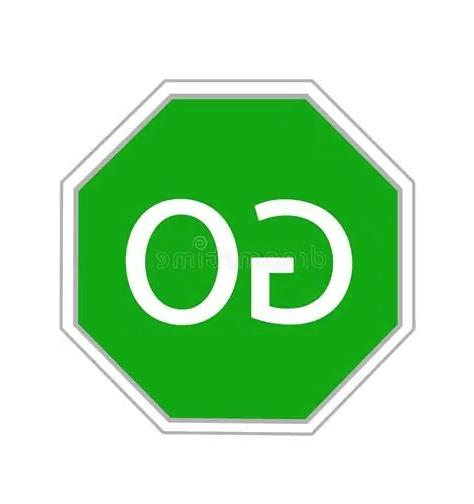Go: (77, 82, 405, 430)
